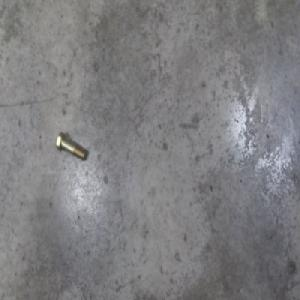Bolt: (56, 130, 86, 162)
